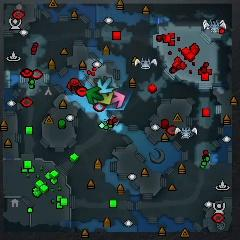x1: (110, 91, 125, 108)
x2: (97, 92, 114, 105)
x3: (97, 77, 114, 93)
x4: (86, 87, 102, 103)
